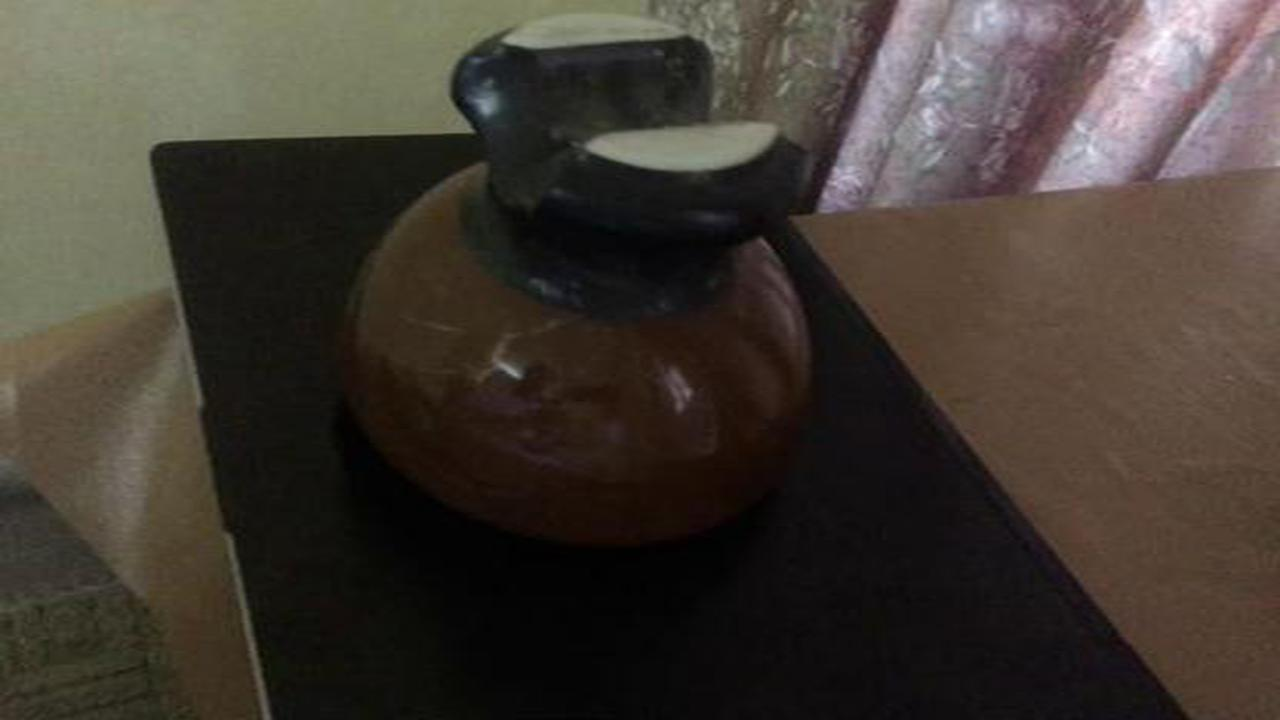insulator_pin: (311, 14, 847, 558)
